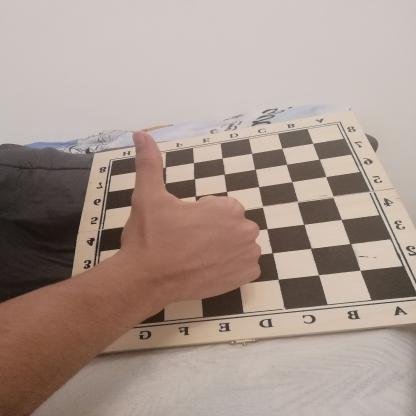ALIF: (99, 115, 277, 313)
